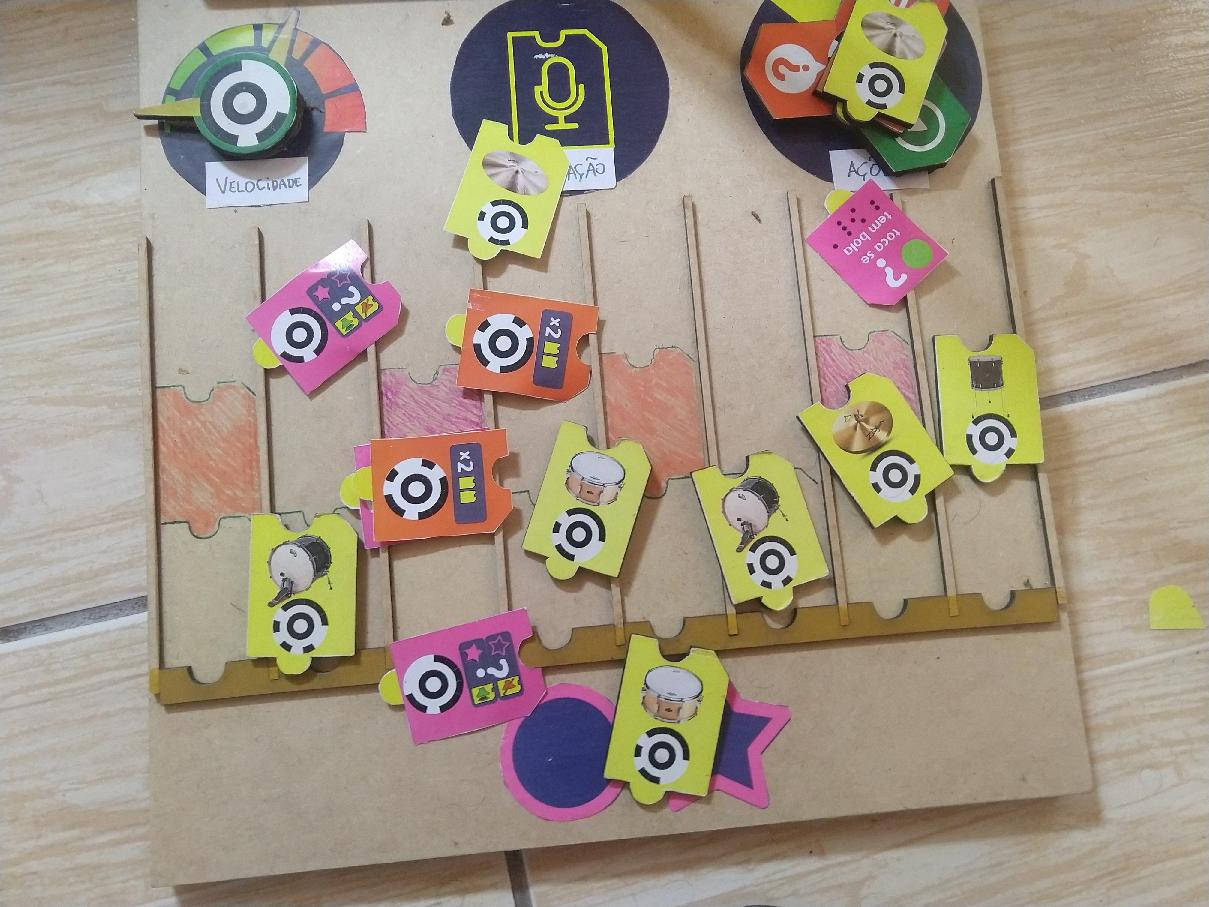bumbo: (689, 444, 831, 619), (243, 507, 367, 680)
